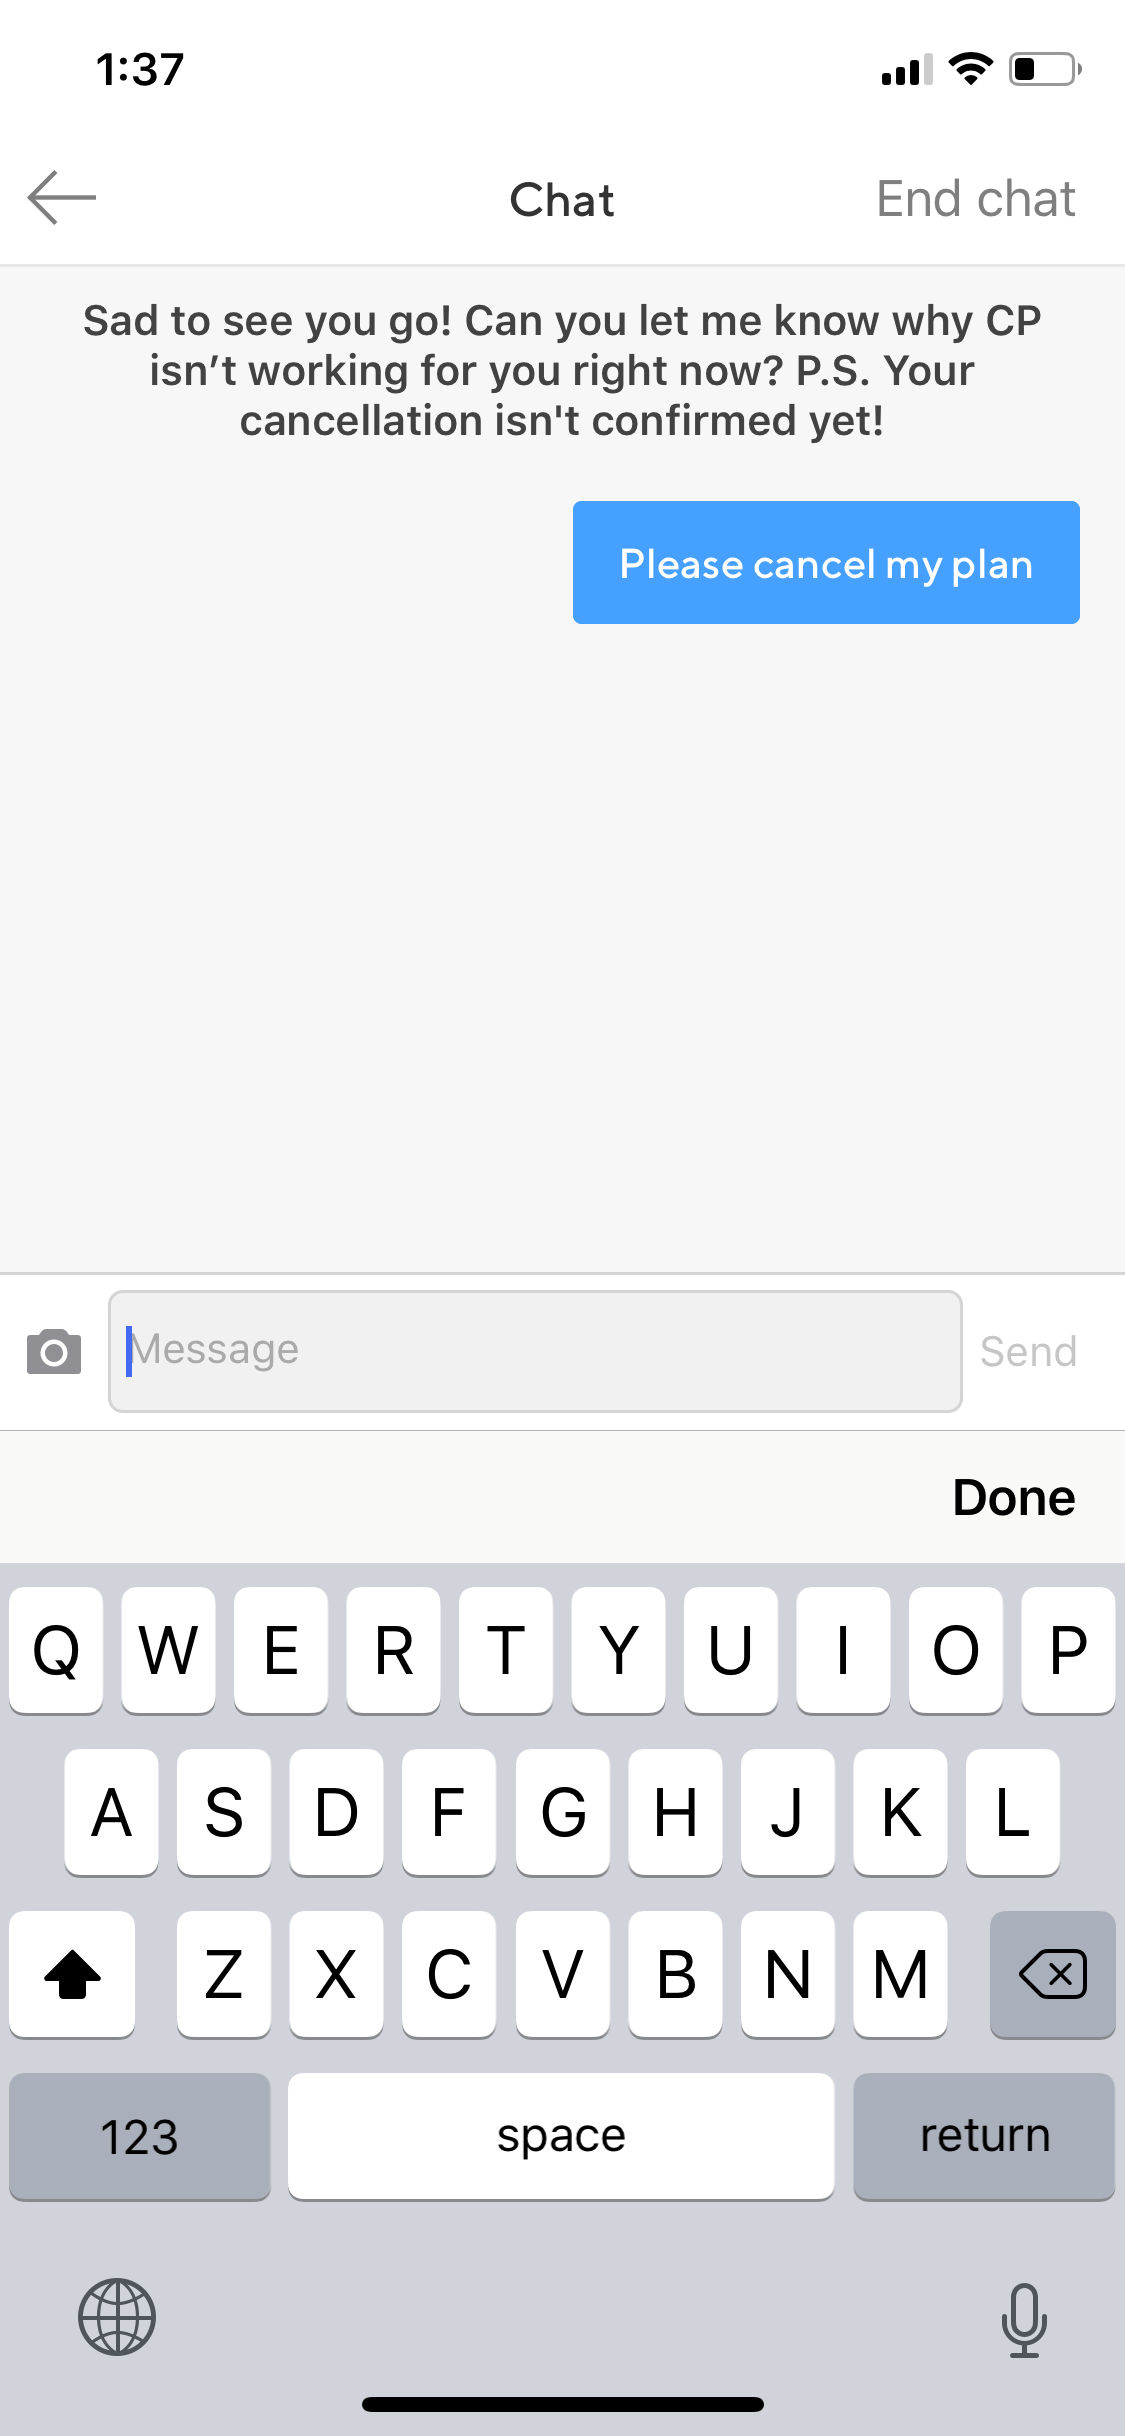Buttons: (550, 475, 1092, 652), (834, 143, 1106, 244), (5, 132, 135, 252), (2, 1288, 106, 1425), (970, 1300, 1099, 1404)
Text Fields: (104, 1272, 963, 1429)
